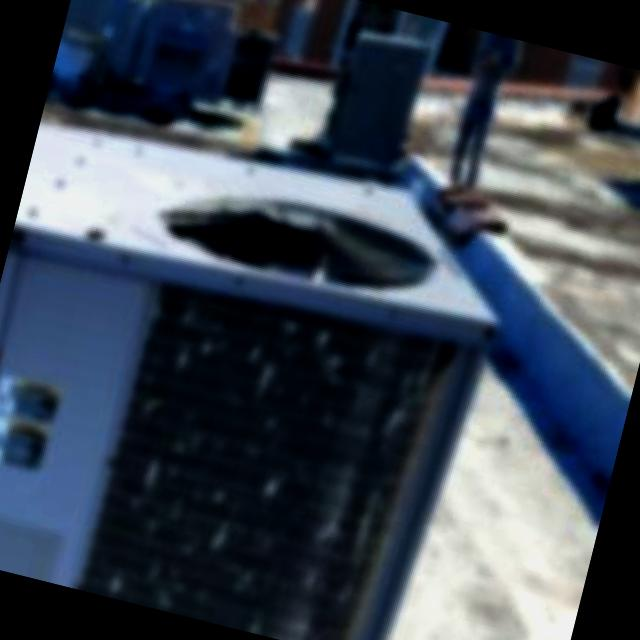RTU: (0, 105, 533, 640)
